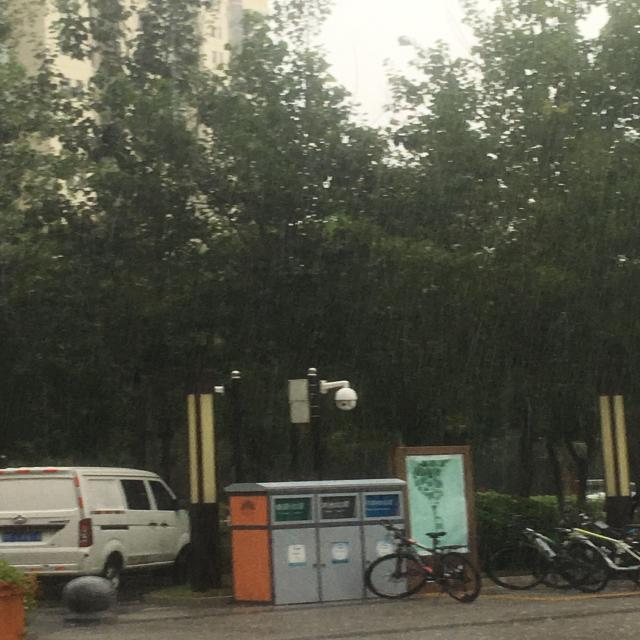car: (0, 467, 191, 575)
